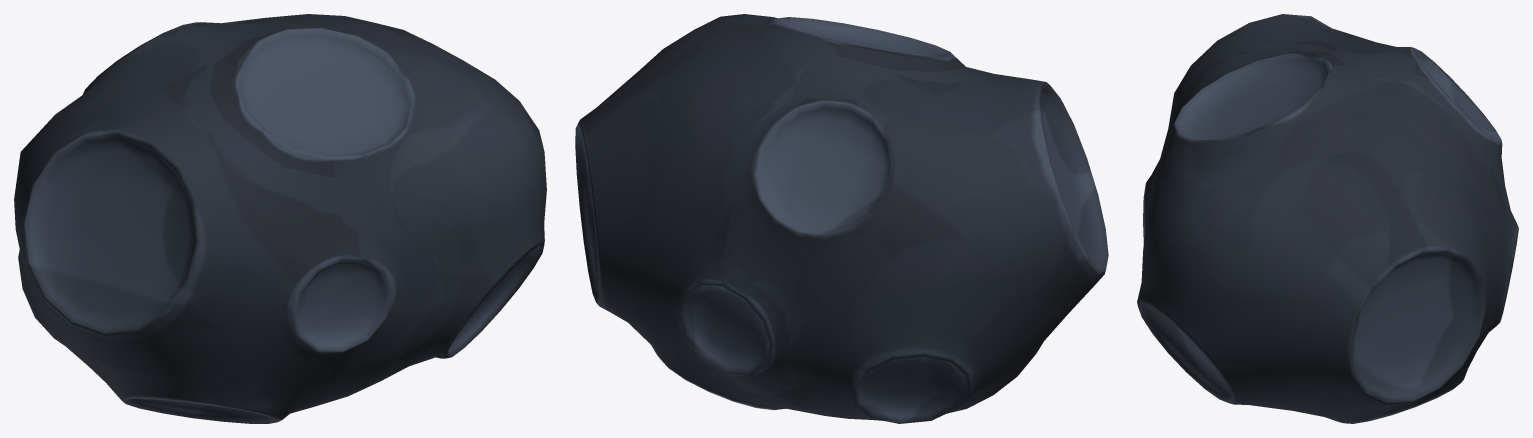
Rendered from Asteroid_Mesh_4.fbx.
3 renders of one model, left to right at view 1: azimuth 30°, elevation 25°; view 2: azimuth 150°, elevation 25°; view 3: azimuth 270°, elevation 25°, orthographic. The views are drawn at different scales.
Visible parts, largest first — view 1: Asteroid_Mesh_4; view 2: Asteroid_Mesh_4; view 3: Asteroid_Mesh_4.
Part boxes in pixels (<box>): Asteroid_Mesh_4: <box>14,14,546,423</box>; Asteroid_Mesh_4: <box>575,14,1108,423</box>; Asteroid_Mesh_4: <box>1137,14,1518,423</box>.
Size of the model in its own units: 9.84 by 6.81 by 7.12.
